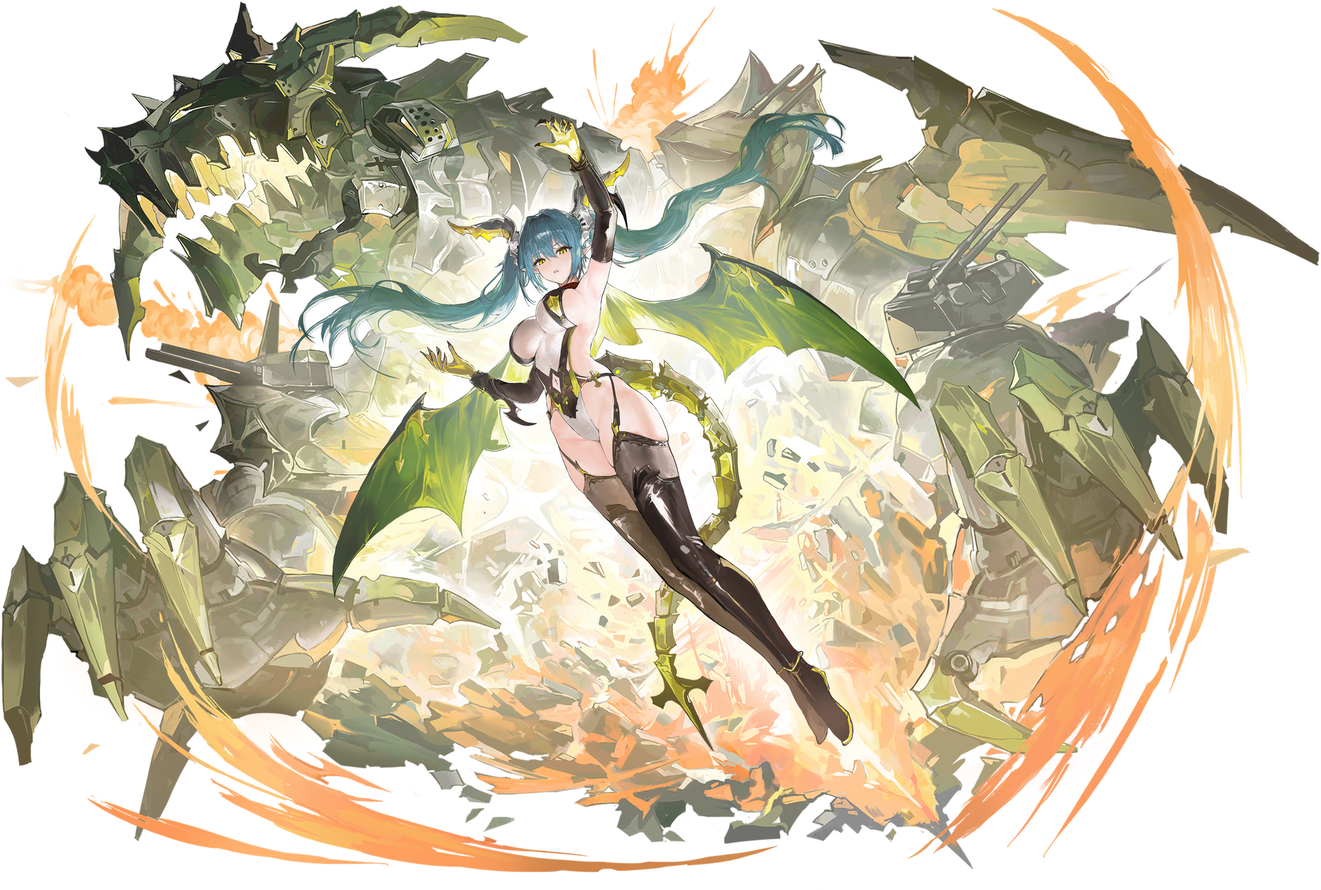person: (338, 154, 894, 797)
